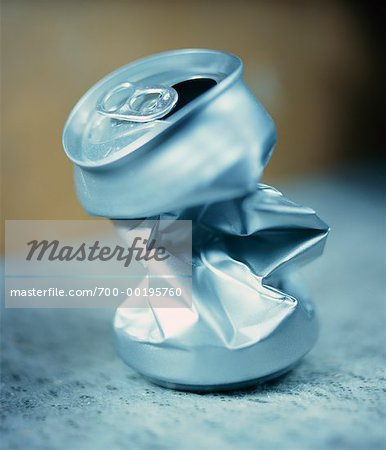can: (60, 47, 331, 396)
